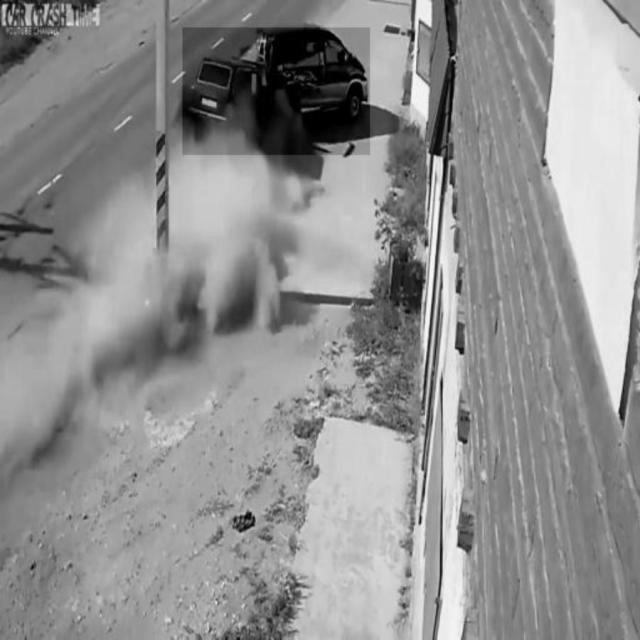accident: (183, 27, 370, 155)
